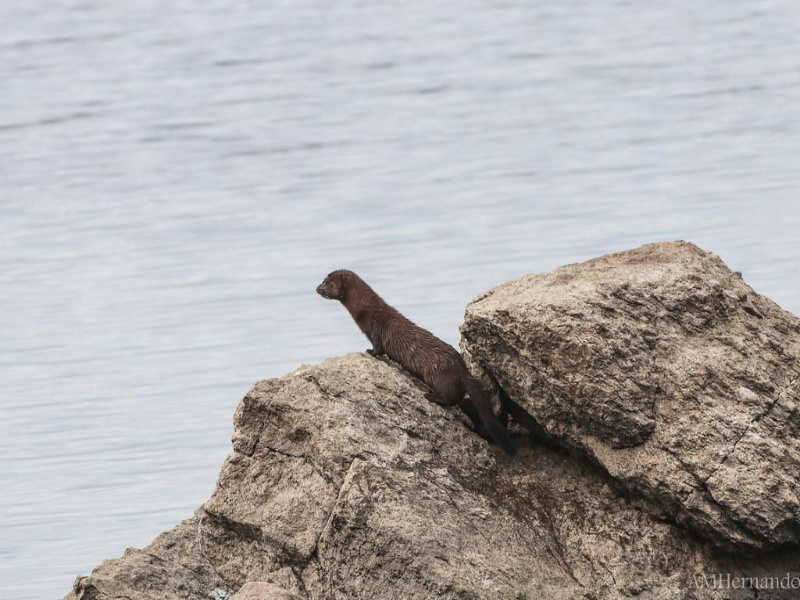minkish: (315, 268, 509, 444)
